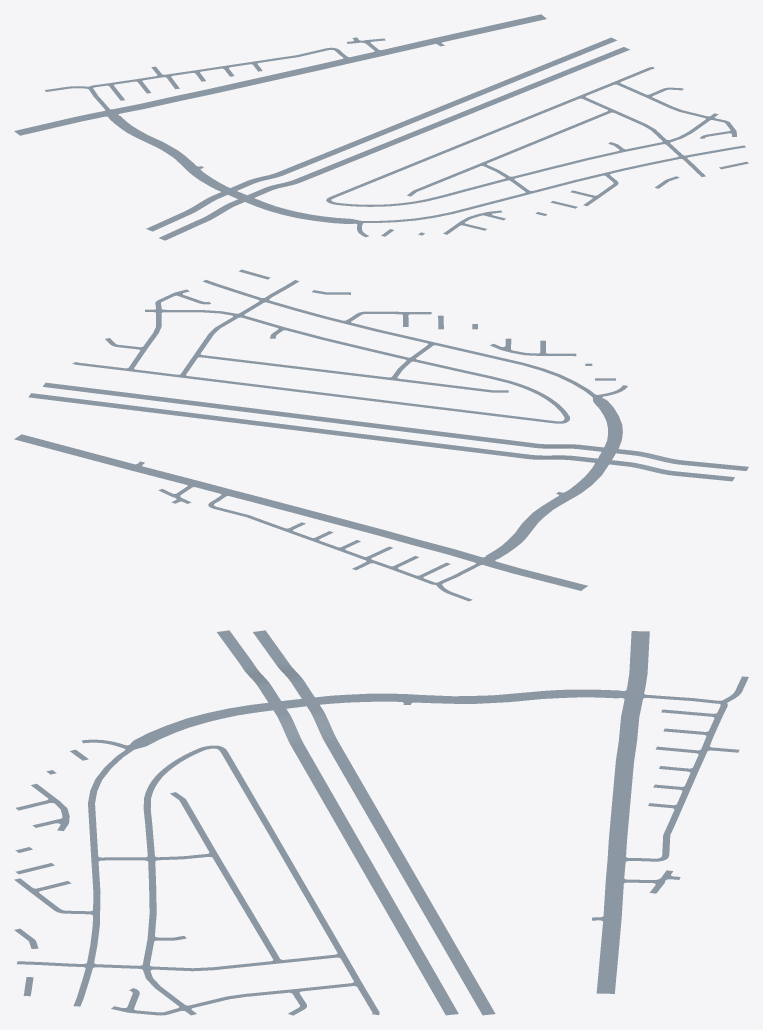
File: SM_GHSPark_ContextRoads.fbx
3 renders of one model, top to bottom at view 1: azimuth 30°, elevation 25°; view 2: azimuth 150°, elevation 25°; view 3: azimuth 270°, elevation 25°, orthographic. The views are drawn at different scales.
Parts seen in each view (by area): view 1: SM_GHSPark_ContextRoads; view 2: SM_GHSPark_ContextRoads; view 3: SM_GHSPark_ContextRoads.
Boxes of the visible parts, x1,y1,x2,y2 form: SM_GHSPark_ContextRoads: (14,14,748,240); SM_GHSPark_ContextRoads: (14,269,748,601); SM_GHSPark_ContextRoads: (14,630,748,1015).
Size of the model in its own units: 94829 by 76451 by 612.
